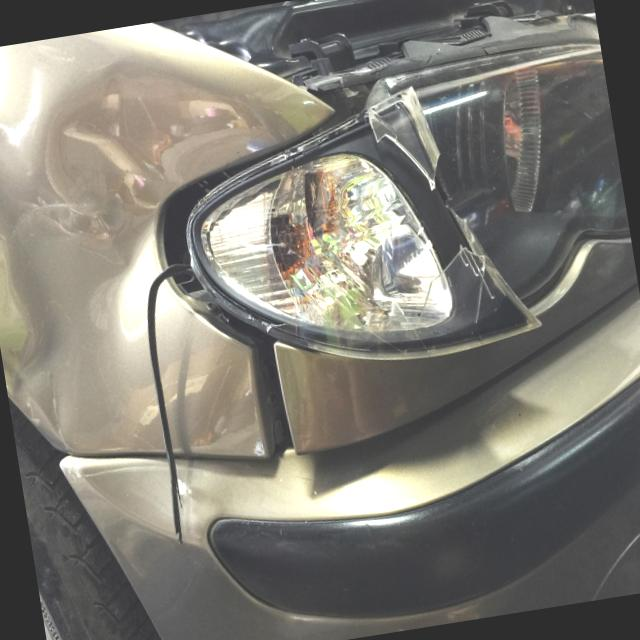Cabossage: (0, 4, 341, 523)
Phare abime: (216, 103, 515, 374)
